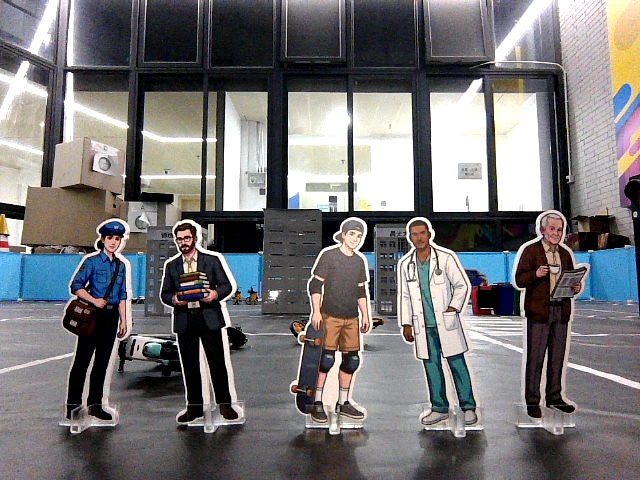community_person: (390, 208, 483, 443), (287, 208, 379, 441), (154, 214, 247, 441), (508, 203, 594, 440), (57, 208, 144, 439)
